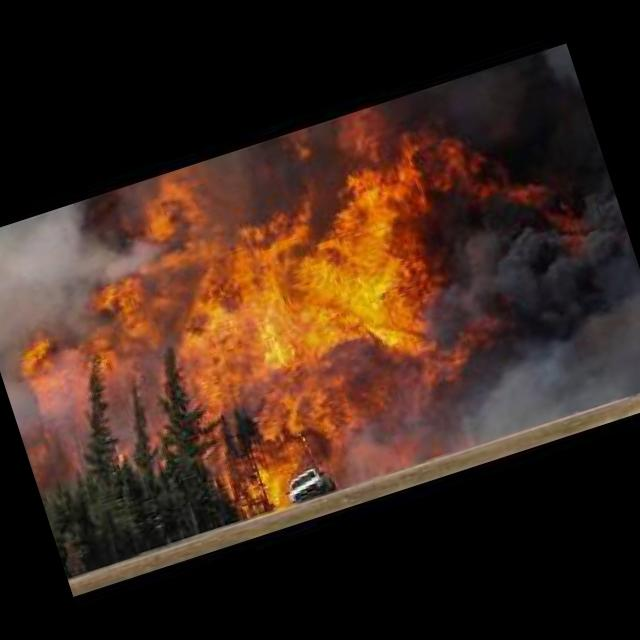fire: (0, 63, 636, 568)
